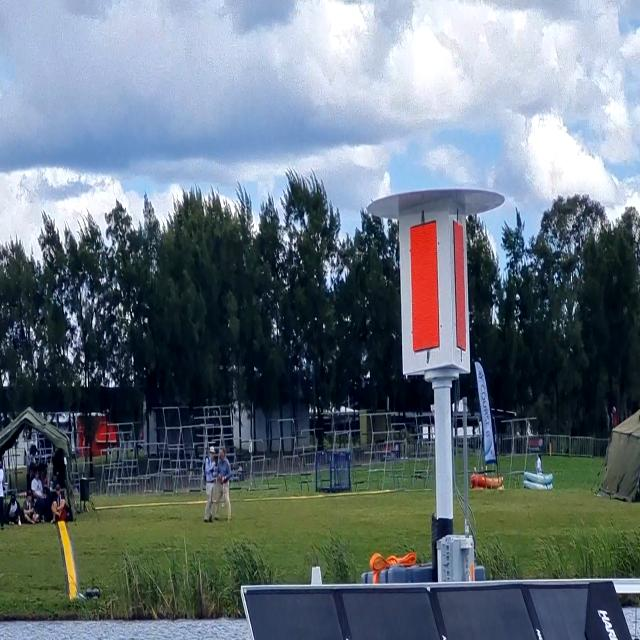led: (403, 215, 445, 355), (451, 210, 468, 362)
